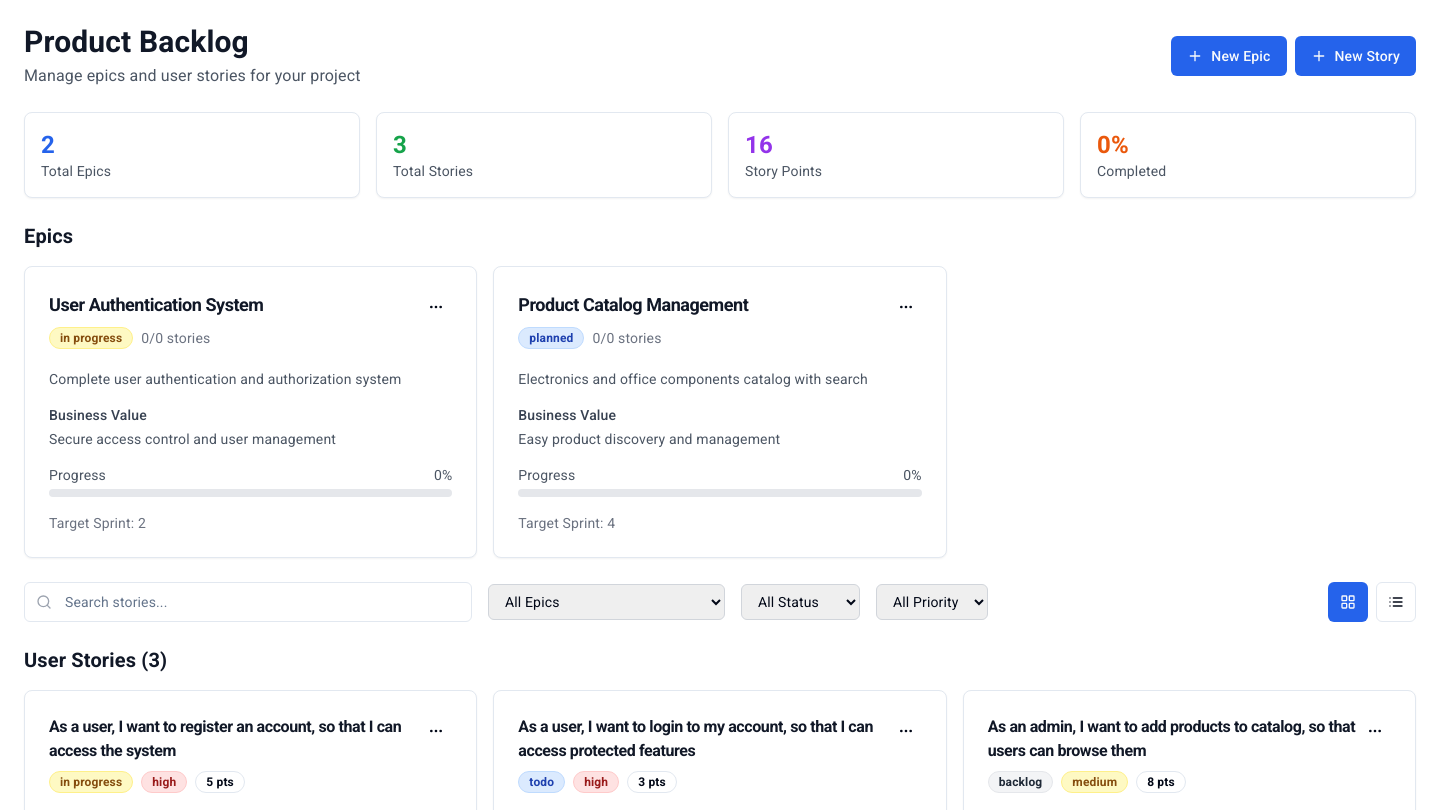
BacklogManagement › opens epic form when New Epic is clicked
Click the button "New Epic": click(1229, 56) [1171,36,1286,76]
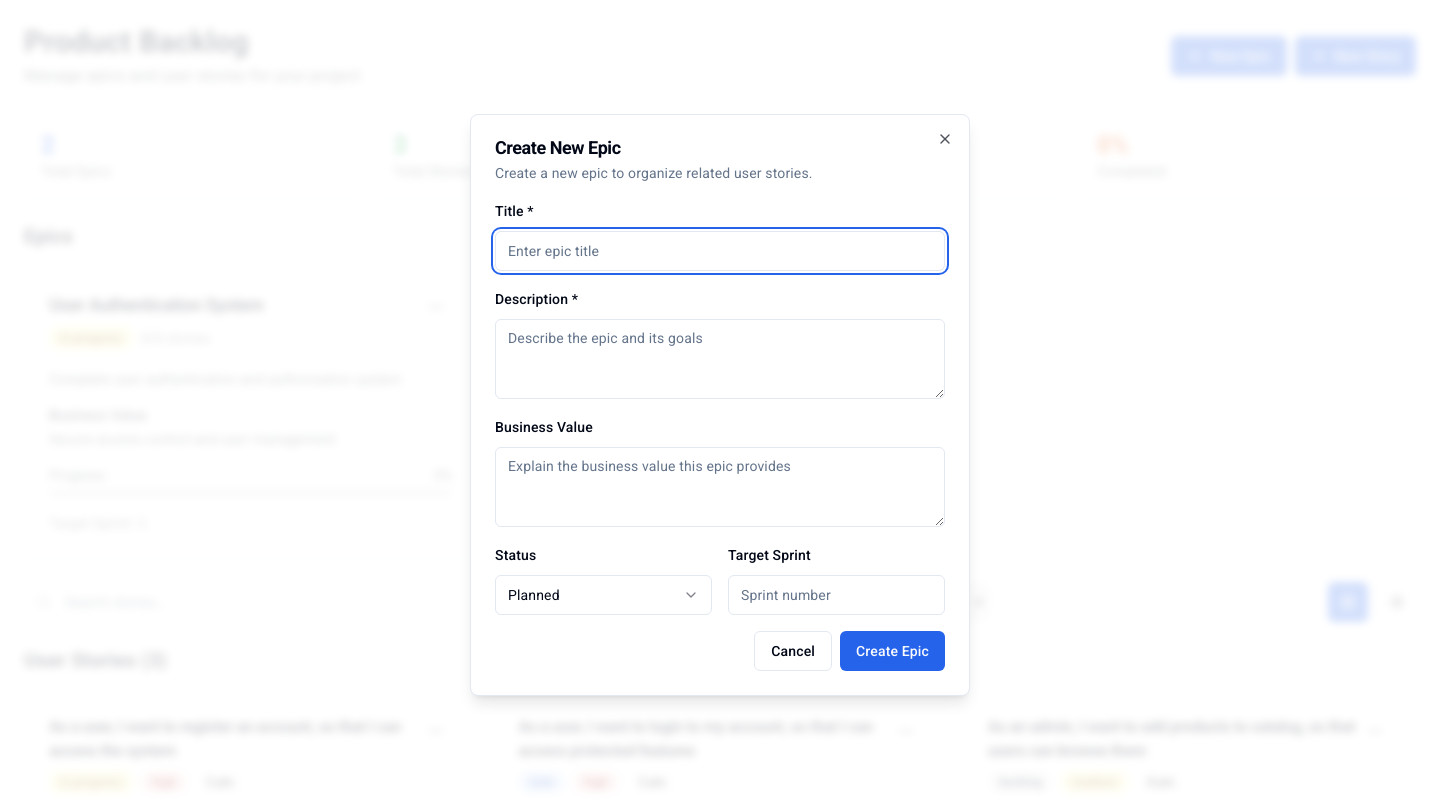
Expected: the heading "Create New Epic" is shown, [495,137,621,158]
